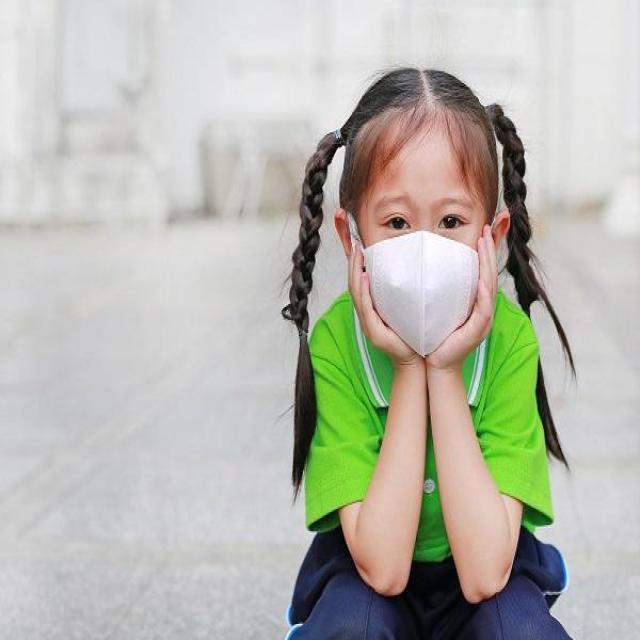Nonhelmet: (307, 64, 534, 377)
